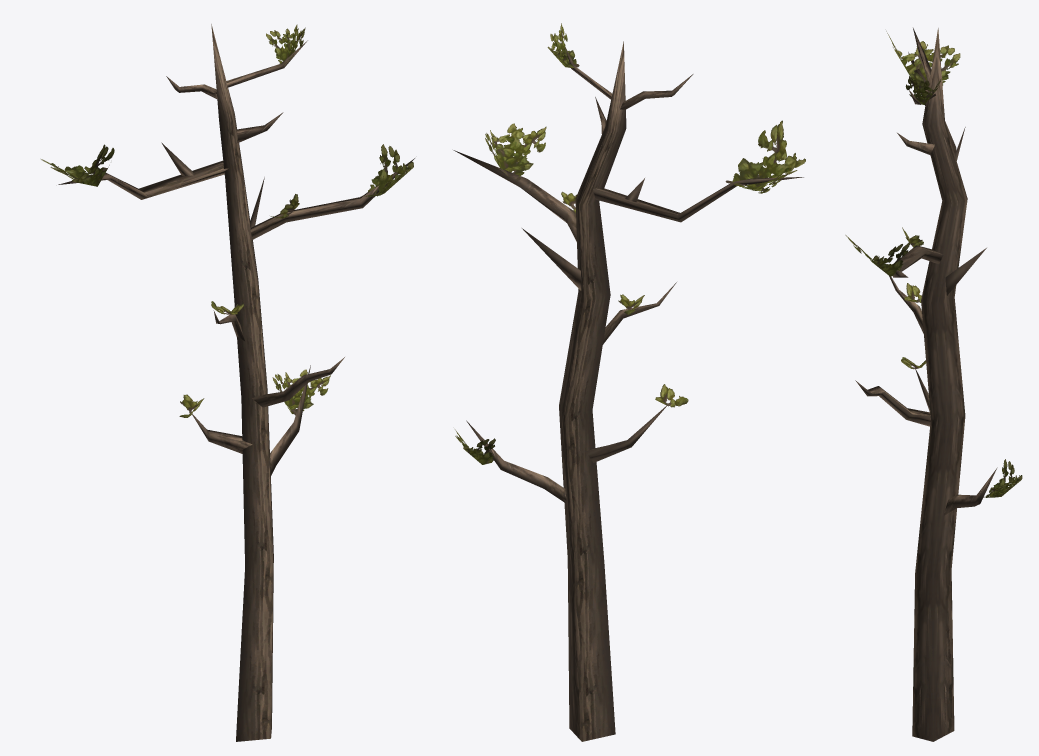
Rendered from town_scrubpine02.fbx.
3 renders of one model, left to right at view 1: azimuth 30°, elevation 25°; view 2: azimuth 150°, elevation 25°; view 3: azimuth 270°, elevation 25°, orthographic. The views are drawn at different scales.
Parts seen in each view (by area): view 1: Material_#656; view 2: Material_#656; view 3: Material_#656.
Part boxes in pixels (x1,y1,x2,y2): Material_#656: [41, 24, 414, 741]; Material_#656: [453, 23, 805, 741]; Material_#656: [845, 28, 1022, 741].
Bounding box in the file's own units: 5.91 × 10.81 × 2.69.
